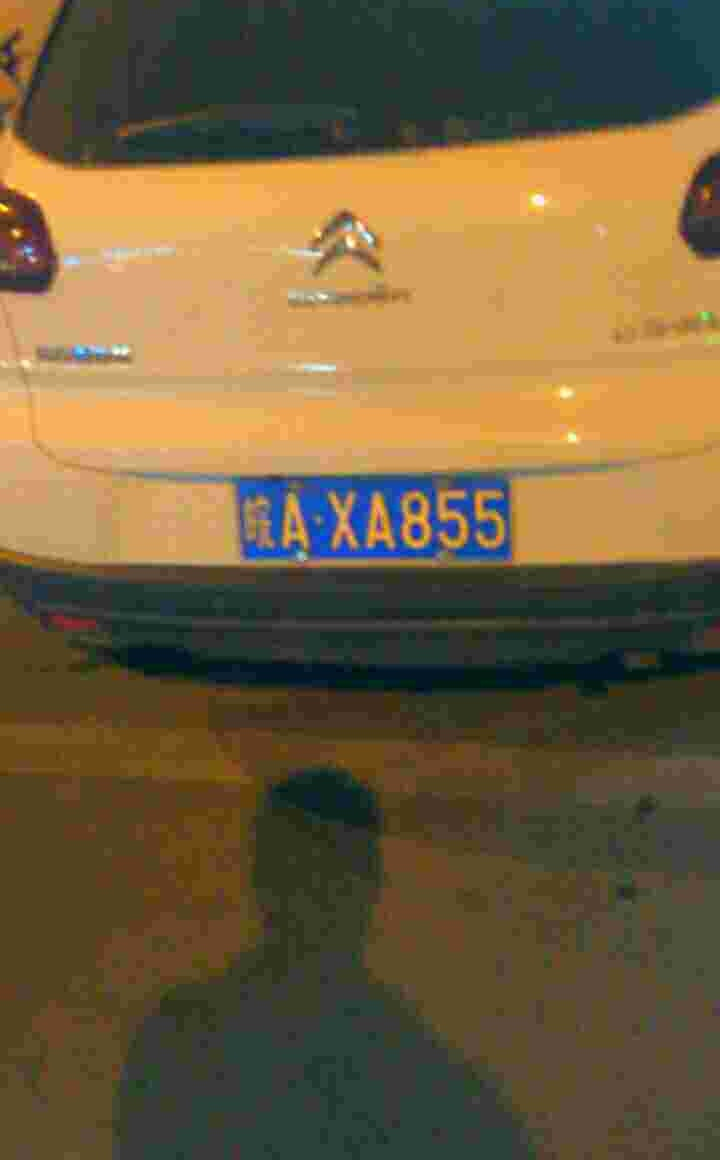license_plate: (235, 482, 506, 559)
